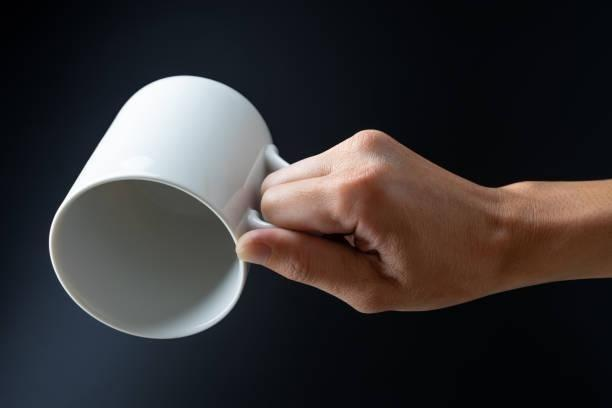cup-handle: (49, 72, 319, 343)
